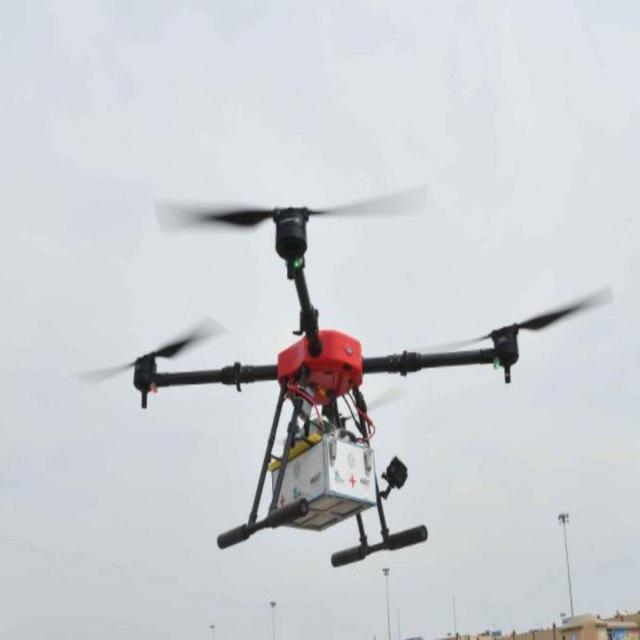drones: (60, 150, 623, 572)
